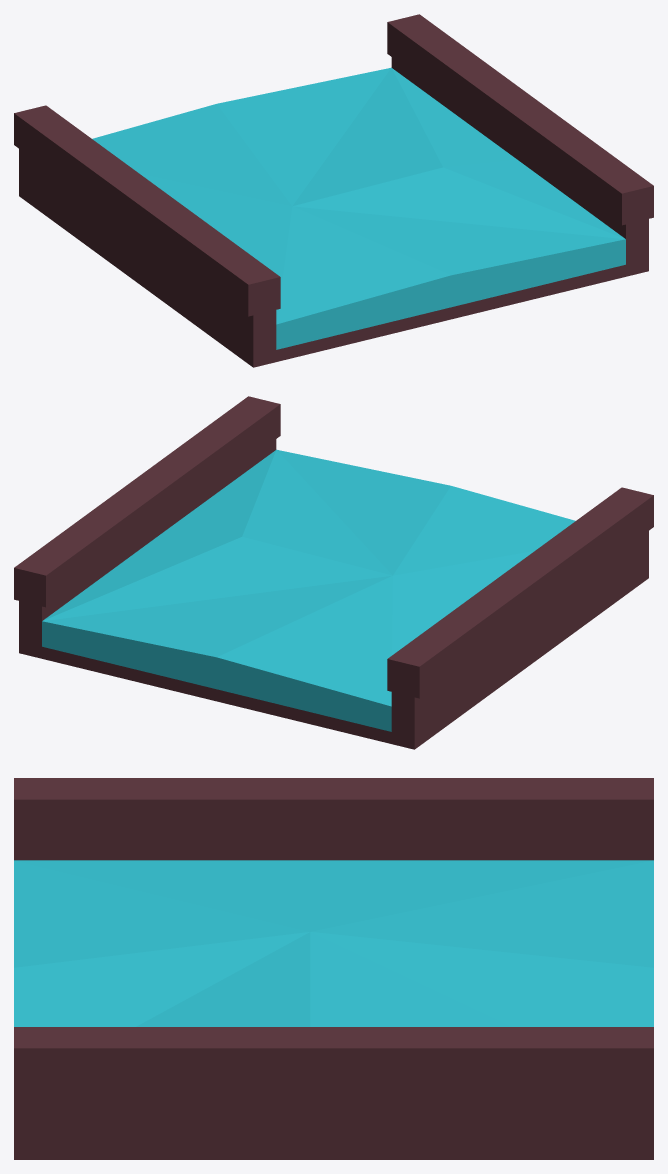
The model's file is empire-water-trough-middle-empire.glb.
3 views of the same model, one above another, from view 1: azimuth 30°, elevation 25°; view 2: azimuth 150°, elevation 25°; view 3: azimuth 270°, elevation 25° (orthographic). The views are drawn at different scales.
Parts seen in each view (by area): view 1: SM_Water_Trough_Middle_Empire; view 2: SM_Water_Trough_Middle_Empire; view 3: SM_Water_Trough_Middle_Empire.
Boxes of the visible parts, box(x1,y1,x2,y2) form: SM_Water_Trough_Middle_Empire: box(14, 14, 653, 367); SM_Water_Trough_Middle_Empire: box(14, 396, 653, 749); SM_Water_Trough_Middle_Empire: box(14, 778, 653, 1159).
Size of the model in its own units: 3 by 0.5942 by 3.
